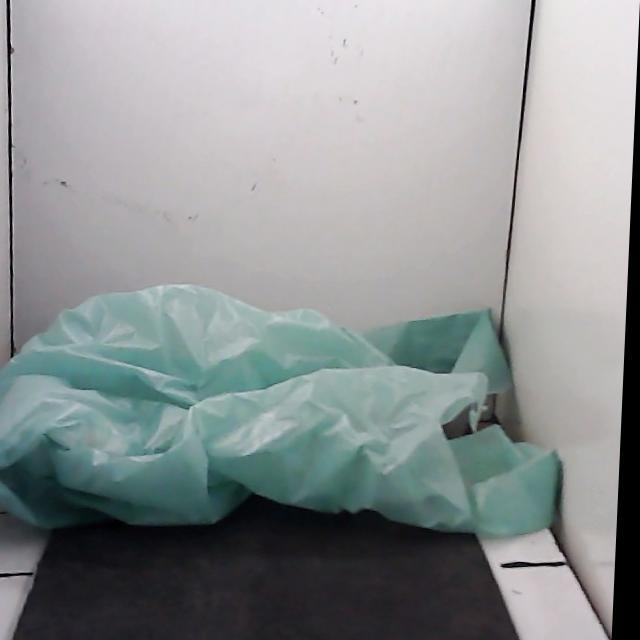plastico: (0, 285, 558, 536)
